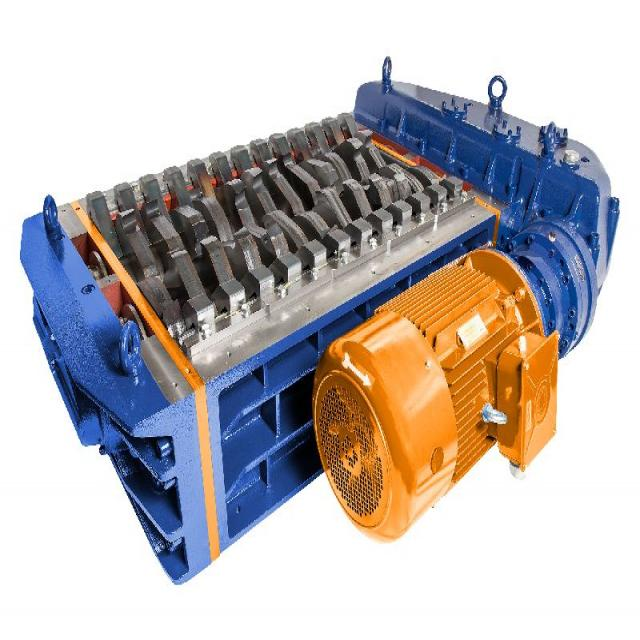Broyeur: (67, 99, 500, 391)
